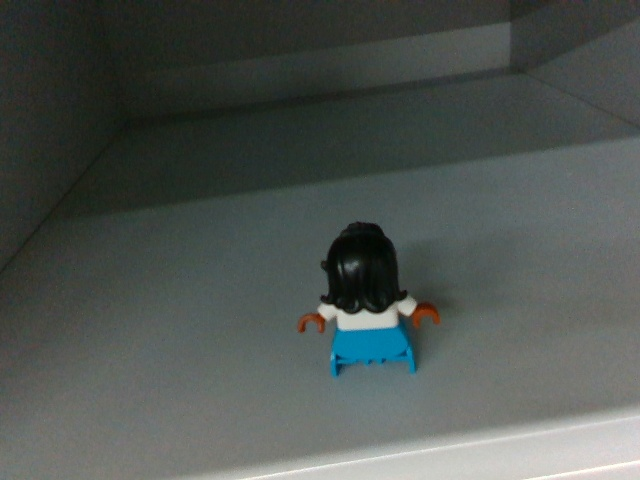people: (297, 223, 445, 382)
